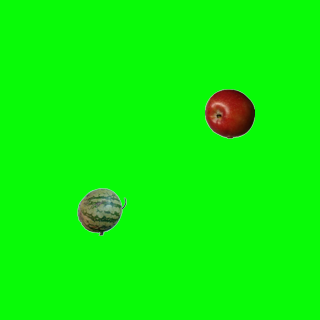Apple Braeburn: (204, 88, 254, 138)
Watermelon: (76, 186, 126, 236)
